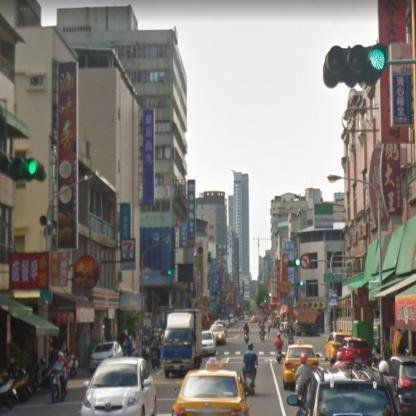Green Light: (322, 45, 388, 80), (0, 150, 45, 183), (156, 266, 174, 279), (286, 258, 304, 266)
